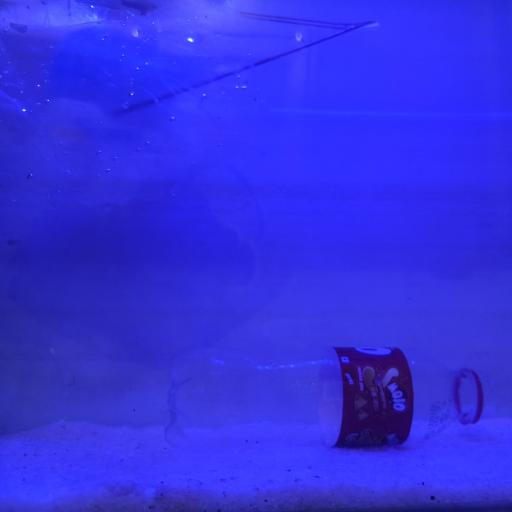plastic_bag: (1, 0, 258, 211)
plastic_bottle: (162, 343, 494, 449)
